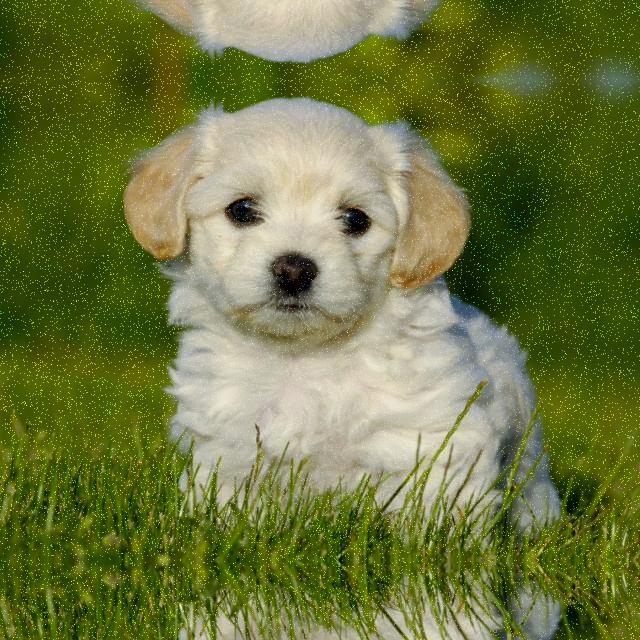dog: (103, 84, 583, 536), (103, 0, 583, 76), (103, 584, 583, 640)
